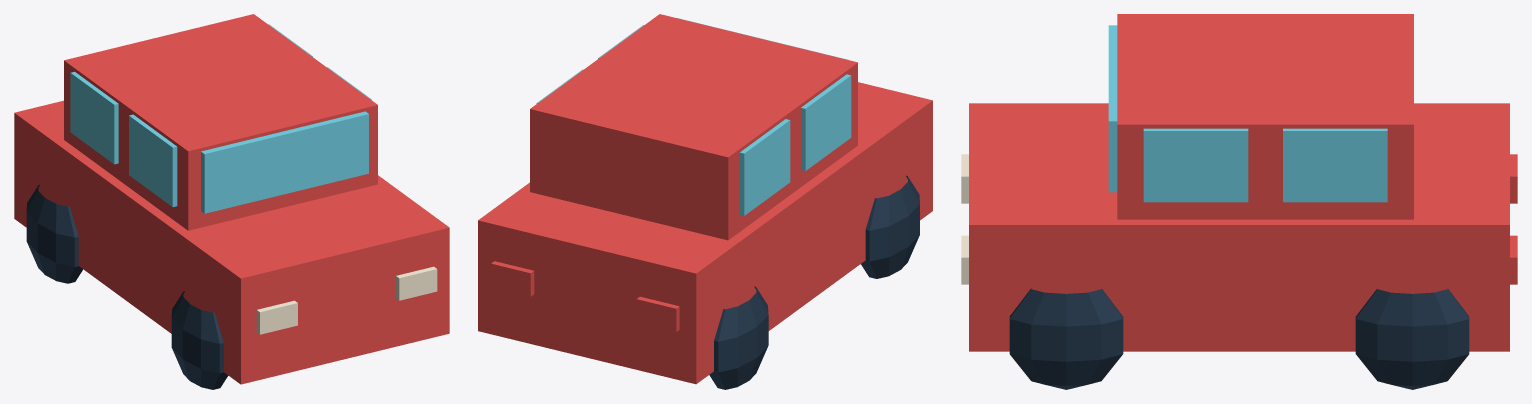
File: 20_parked_car.obj
The picture shows the model from 3 angles, left to right: view 1: azimuth 30°, elevation 25°; view 2: azimuth 150°, elevation 25°; view 3: azimuth 270°, elevation 25°; orthographic projection. The views are drawn at different scales.
Visible parts, largest first — view 1: part_0, part_1, part_2, part_6, part_5, part_3, part_4, part_7, part_13; view 2: part_0, part_1, part_5, part_6, part_3, part_4, part_14, part_8; view 3: part_0, part_1, part_11, part_12, part_10, part_9, part_2.
Boxes of the visible parts, x1,y1,x2,y2 form: part_0: (14,100,449,384); part_1: (64,14,377,230); part_2: (201,111,368,213); part_6: (171,291,228,389); part_5: (26,185,82,283); part_3: (70,71,118,164); part_4: (129,114,177,206); part_7: (256,300,297,334); part_13: (396,266,437,300); part_0: (478,82,932,384); part_1: (530,14,857,240); part_5: (709,286,768,389); part_6: (861,175,919,278); part_3: (739,119,790,215); part_4: (801,74,851,170); part_14: (491,261,534,296); part_8: (636,296,679,332); part_0: (969,103,1509,351); part_1: (1117,14,1413,219); part_11: (1355,288,1469,389); part_12: (1009,288,1123,389); part_10: (1143,128,1248,202); part_9: (1283,128,1387,202); part_2: (1108,25,1117,192).
Size of the model in its own units: 1.92 by 1.65 by 3.19.
